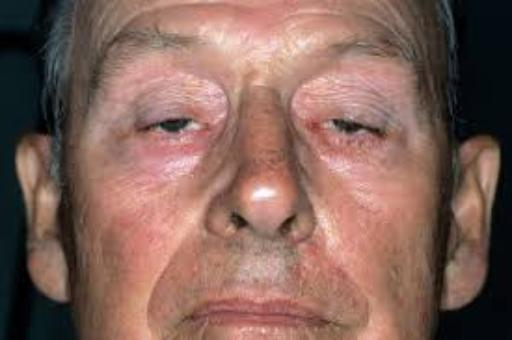left_eye: (307, 113, 384, 143)
left_lip_corner: (312, 307, 347, 334)
right_eye: (140, 115, 215, 137)
right_lip_corner: (174, 307, 213, 330)
